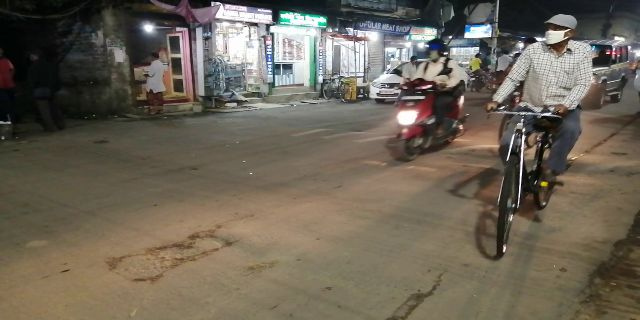Cycle: (483, 16, 590, 260)
Motorbike: (393, 38, 468, 160)
